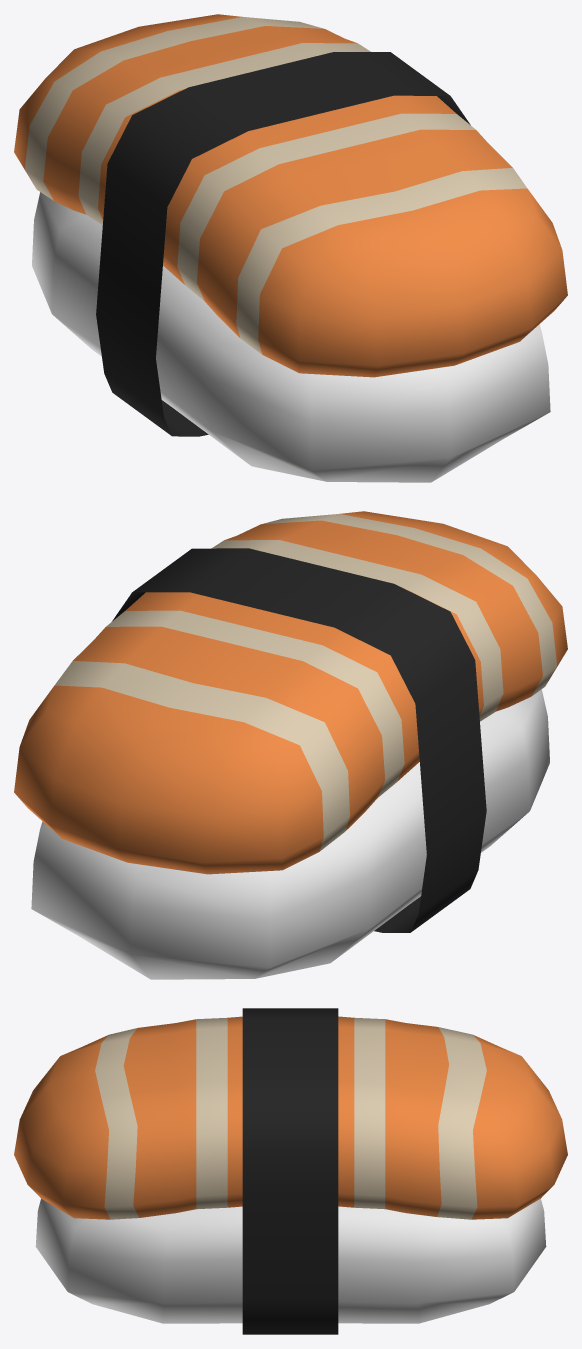
Rendered from Food_SalmonNigiri.fbx.
3 renders of one model, top to bottom at view 1: azimuth 30°, elevation 25°; view 2: azimuth 150°, elevation 25°; view 3: azimuth 270°, elevation 25°, orthographic. The views are drawn at different scales.
Visible parts, largest first — view 1: Food_SalmonNigiri; view 2: Food_SalmonNigiri; view 3: Food_SalmonNigiri.
Part boxes in pixels (bbox=[...]): Food_SalmonNigiri: bbox=[14, 14, 567, 482]; Food_SalmonNigiri: bbox=[14, 511, 567, 979]; Food_SalmonNigiri: bbox=[14, 1008, 567, 1334].
Size of the model in its own units: 35.57 by 31.41 by 65.12.
